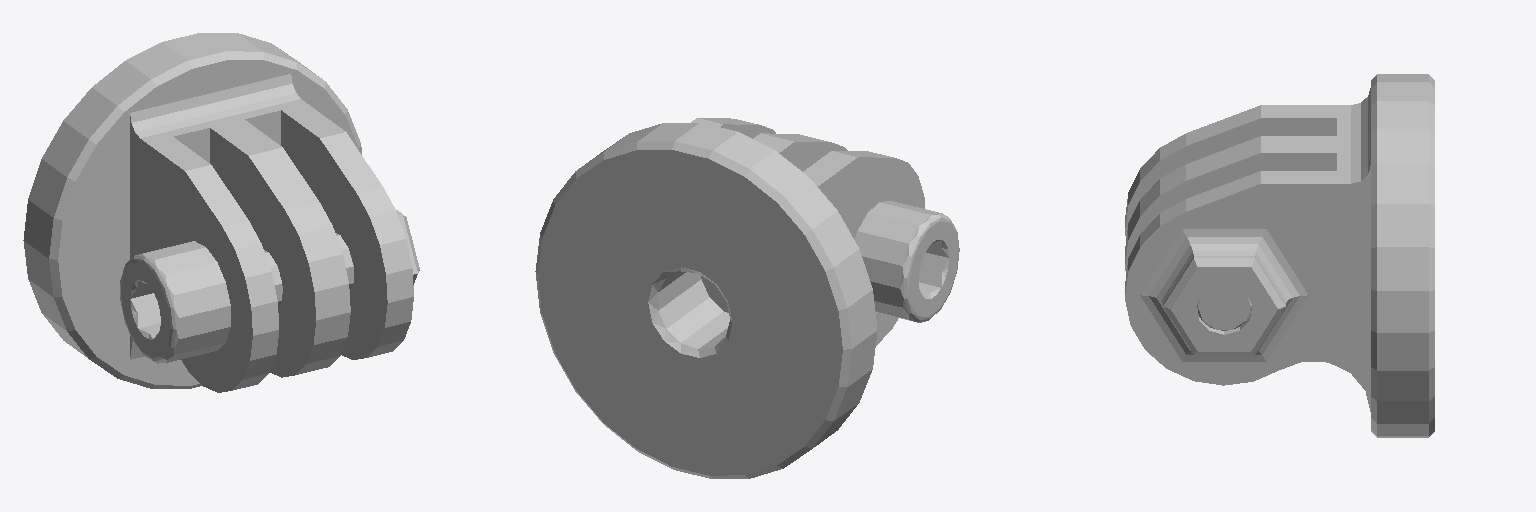
The model's file is camera_mount_bot.obj.
3 views of the same model, side by side, from view 1: azimuth 30°, elevation 25°; view 2: azimuth 150°, elevation 25°; view 3: azimuth 270°, elevation 25° (orthographic).
Parts seen in each view (by area): view 1: Deck_mount; view 2: Deck_mount; view 3: Deck_mount.
Boxes of the visible parts, x1=… form: Deck_mount: x1=23, y1=33, x2=419, y2=392; Deck_mount: x1=535, y1=118, x2=959, y2=478; Deck_mount: x1=1125, y1=74, x2=1434, y2=437.
Bounding box in the file's own units: 0.0275 × 0.0273 × 0.0233.